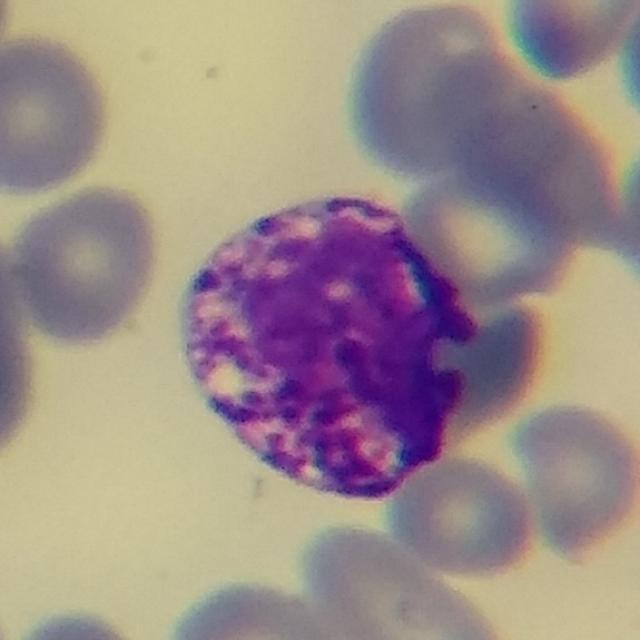Basophil: (172, 183, 484, 509)
RBC: (392, 127, 593, 307), (342, 0, 515, 179), (3, 180, 167, 348), (292, 521, 518, 640), (510, 396, 640, 562), (385, 451, 543, 581), (0, 29, 118, 199), (442, 60, 582, 190), (161, 574, 352, 640), (497, 0, 640, 83), (0, 244, 38, 456), (3, 604, 164, 640), (613, 127, 640, 299), (616, 0, 640, 136)
